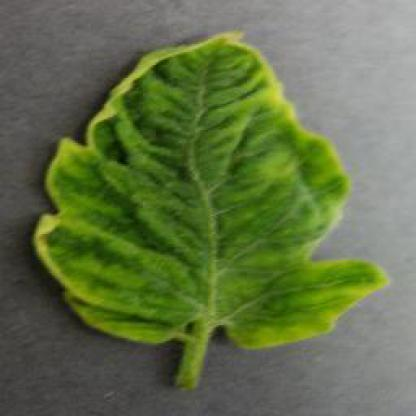good leaf: (29, 21, 414, 390)
